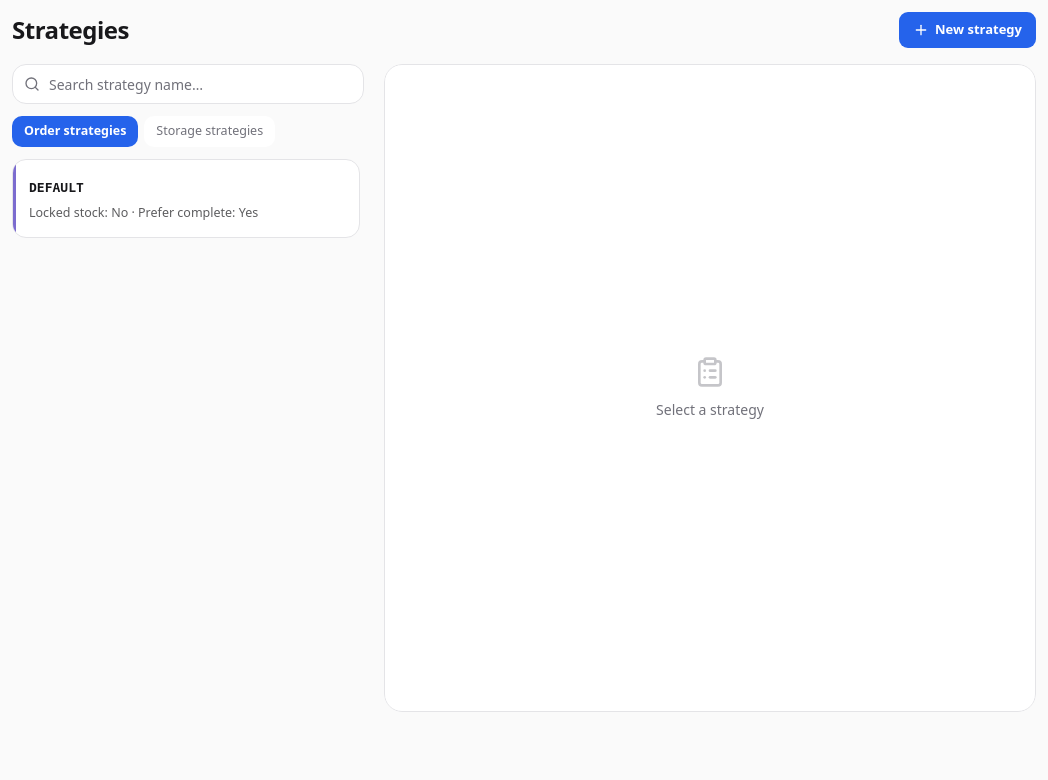
StrategiesPage › strategy-create is visible only for the kind with write permission (order-write)
Expected: the button with test id "strategy-create" is shown, [899, 12, 1036, 48]
# Switch to Storage chip, no layout-write permission -- create button hidden
Click the button "Storage strategies": [210, 131] box [144, 116, 275, 147]
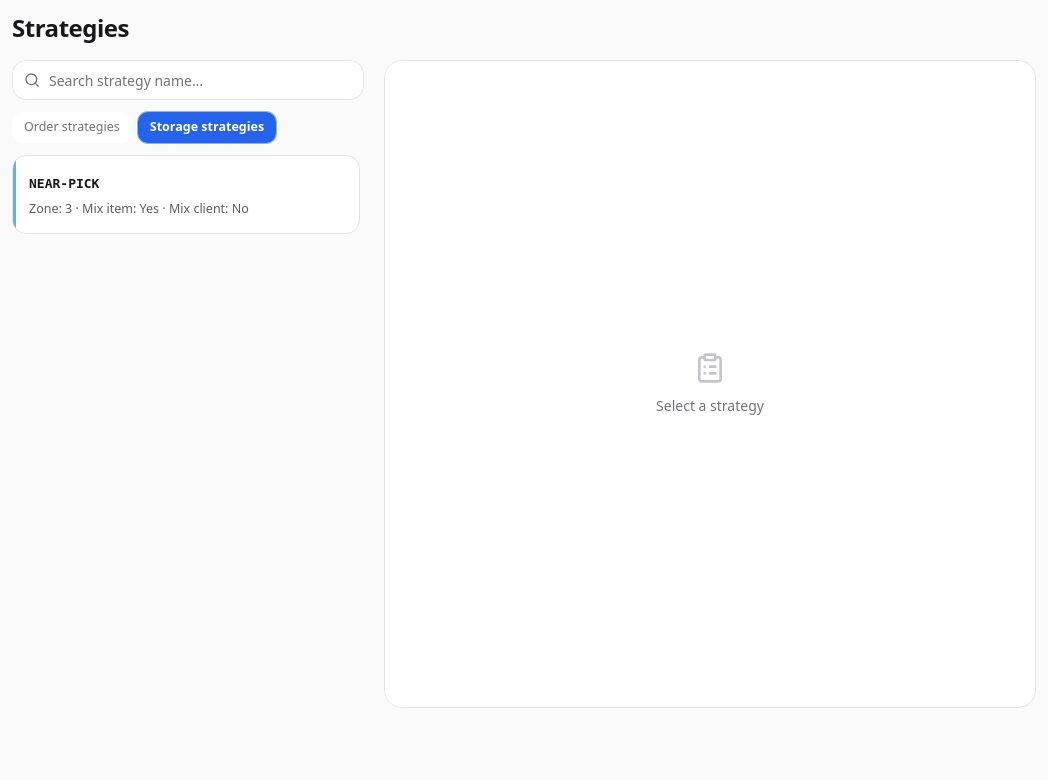
Expected: the button with test id "strategy-create" is gone
